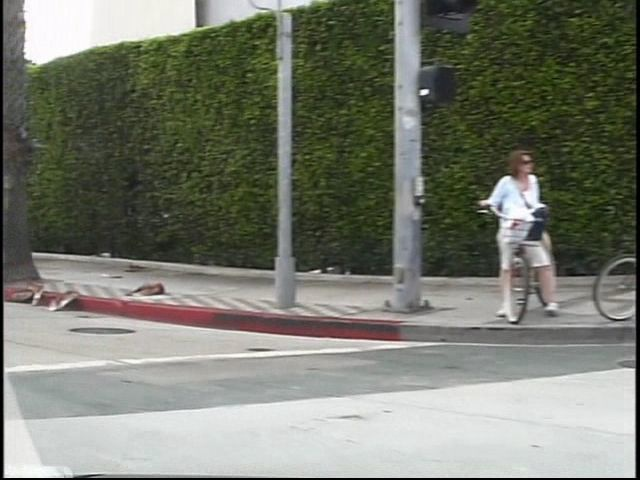person: (474, 150, 543, 325)
